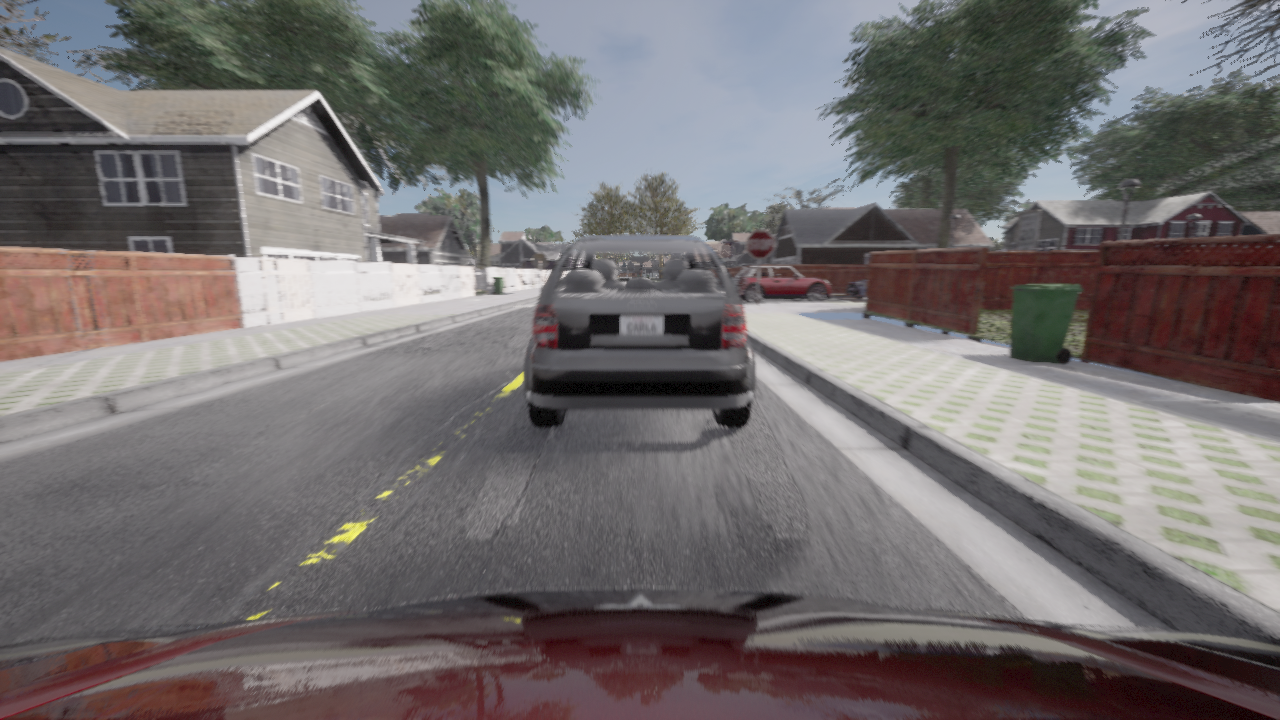cyclist: (0, 588, 1279, 719), (524, 235, 754, 427), (732, 266, 831, 302), (845, 278, 867, 298)
